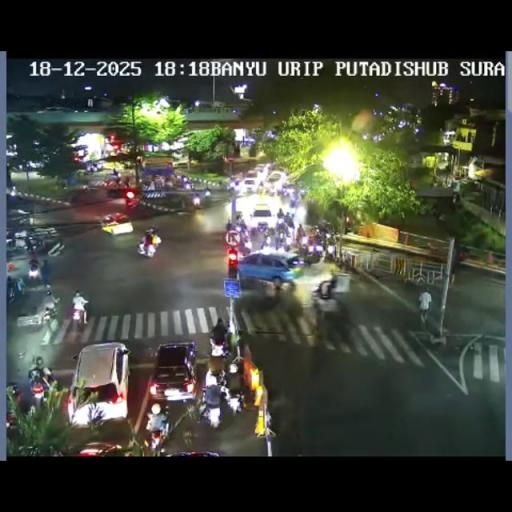Car: (68, 342, 130, 426), (148, 342, 198, 404), (63, 415, 137, 454), (236, 248, 303, 290), (141, 189, 196, 212), (70, 185, 108, 205), (106, 181, 137, 199), (250, 203, 273, 227), (266, 170, 286, 190), (72, 144, 89, 161), (240, 178, 258, 194), (254, 164, 270, 178)
Motorcycle: (230, 213, 316, 257), (315, 292, 354, 350), (28, 355, 54, 406), (5, 382, 24, 424), (203, 364, 227, 393), (198, 401, 222, 429), (146, 422, 167, 454), (208, 334, 230, 360), (137, 234, 160, 258), (226, 386, 244, 416), (232, 324, 250, 352), (70, 298, 88, 325), (312, 281, 335, 301), (306, 238, 326, 260), (42, 302, 60, 322), (25, 234, 44, 252), (314, 222, 330, 242), (296, 238, 310, 260), (28, 261, 41, 283), (237, 237, 252, 256), (261, 230, 275, 250), (274, 232, 288, 251), (6, 282, 16, 304), (326, 240, 337, 259), (250, 223, 263, 239), (15, 276, 25, 295), (276, 218, 287, 234), (191, 193, 201, 208), (288, 194, 298, 209), (284, 216, 294, 230), (6, 236, 16, 250), (238, 218, 247, 231), (228, 180, 237, 192), (257, 184, 267, 194), (145, 226, 155, 236), (86, 162, 95, 172), (183, 180, 191, 190), (298, 188, 306, 198), (277, 209, 284, 220), (225, 219, 231, 231), (124, 176, 130, 187), (204, 188, 210, 198), (10, 186, 16, 196)
